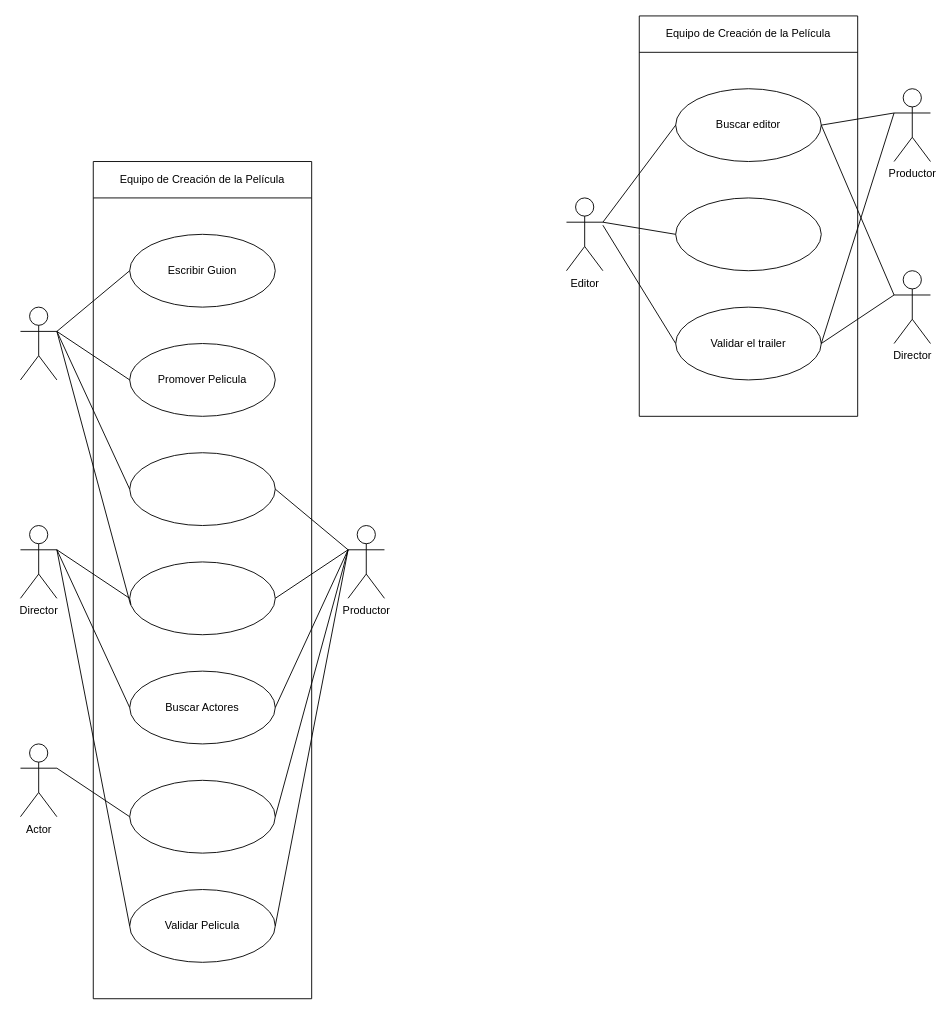
The diagram is 952 pixels wide and 1016 high, and some of its shapes have lost their labels. Here are the shapes that lost their labels. From the top down, the centre of each, then its label:
At [748,234]: "Editar el trailer".
At [38,343]: "Guionista".
At [202,489]: "Financiar Pelicula".
At [202,598]: "Buscar Director".
At [202,816]: "Filmar Pelicula".
